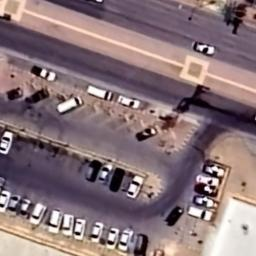SUV: (29, 199, 47, 229), (47, 206, 64, 236), (187, 205, 215, 223), (61, 212, 75, 237)
pickup: (28, 64, 58, 82)
sedan: (124, 172, 146, 200), (163, 204, 186, 228), (199, 161, 228, 180), (117, 227, 135, 255), (109, 165, 126, 193), (193, 181, 221, 198), (116, 92, 142, 110), (190, 39, 216, 56), (0, 128, 15, 156), (136, 126, 159, 144), (98, 162, 114, 187), (7, 192, 23, 217), (196, 173, 222, 188), (190, 194, 216, 209), (72, 217, 88, 241), (106, 225, 120, 252), (89, 221, 104, 244), (18, 196, 32, 220), (0, 190, 13, 214)
van: (56, 94, 85, 114), (85, 83, 113, 102), (83, 158, 103, 184), (134, 231, 148, 256)
